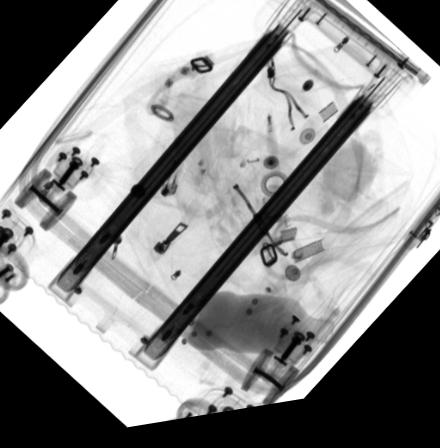Lighter: (159, 146, 191, 203)
